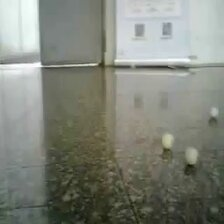tennis: (203, 177, 224, 221), (145, 101, 163, 125), (81, 76, 99, 96), (191, 75, 204, 94)
